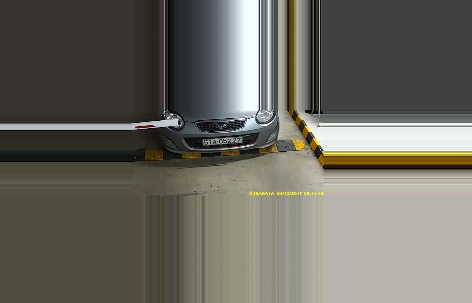plate: (201, 134, 242, 145)
